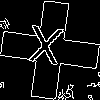X: (25, 25, 65, 75)
